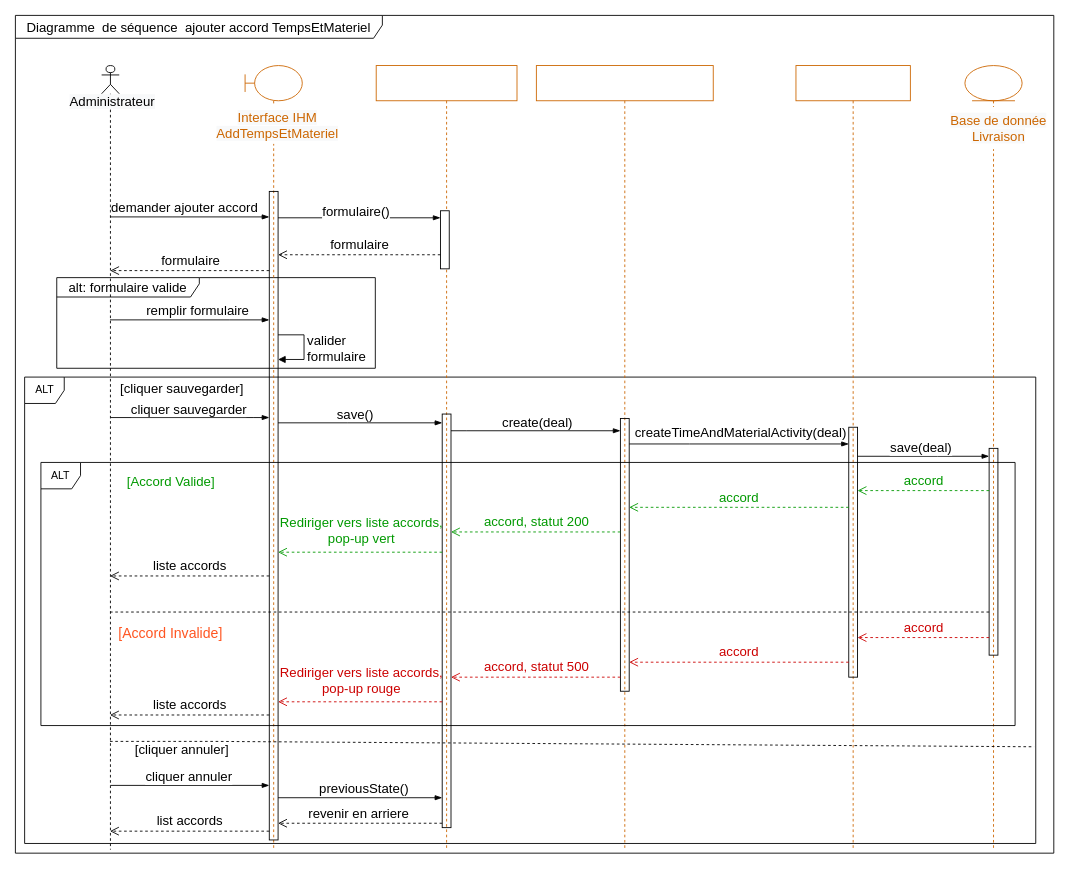
Some shapes in this 1069 by 869 pixel diagram are drawn without their labels. The shapes that lost their labels are listed below. From the top down, each one's box as (x1, y1, x2, y2) in pixels, then its label:
(375, 65, 517, 850): <<component>> AddTimeAndMaterial
(535, 65, 713, 850): :TimeAndMaterial Controler
(795, 65, 910, 850): :TimeAndMaterial Service
